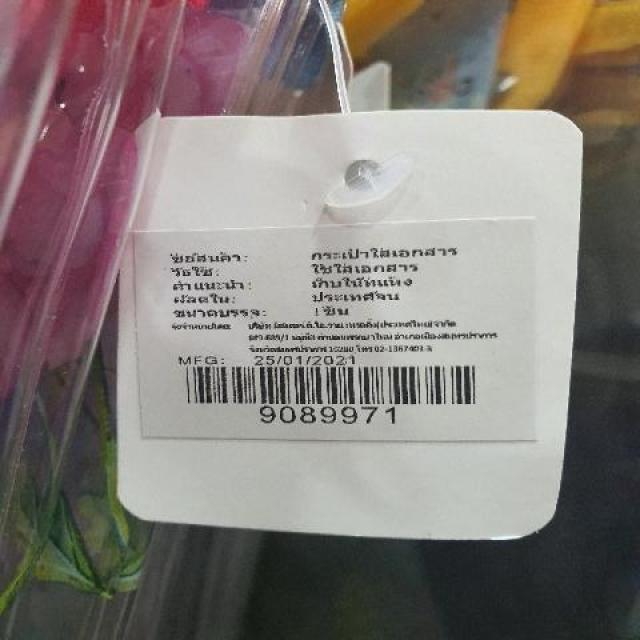Barcode: (172, 361, 492, 426)
